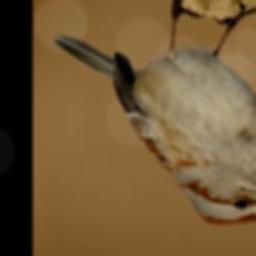Sparrow: (51, 0, 256, 228)
